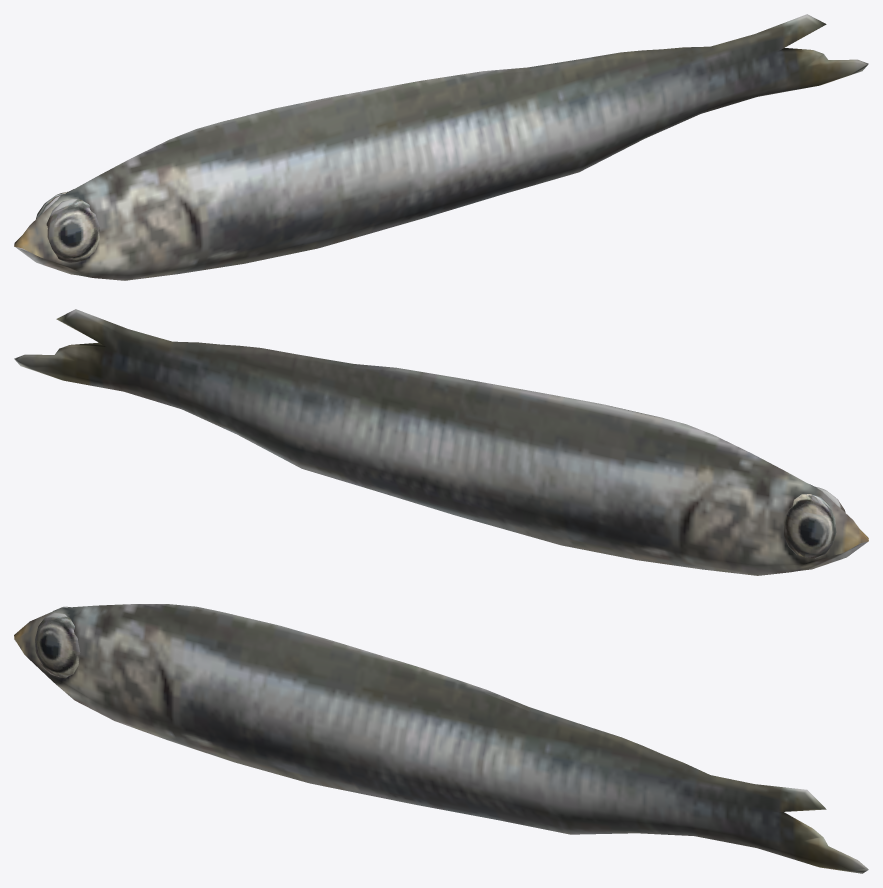
The model's file is Anchovy.fbx.
The picture shows the model from 3 angles, top to bottom: view 1: azimuth 30°, elevation 25°; view 2: azimuth 150°, elevation 25°; view 3: azimuth 330°, elevation 25°; orthographic projection.
Visible parts, largest first — view 1: ANCHOVY; view 2: ANCHOVY; view 3: ANCHOVY.
Boxes of the visible parts, bbox=[...] form: ANCHOVY: bbox=[14, 14, 868, 280]; ANCHOVY: bbox=[14, 309, 868, 575]; ANCHOVY: bbox=[14, 604, 868, 873].
Size of the model in its own units: 9.72 by 1.62 by 0.6889.
Materials: 1 (1 with a texture image).
